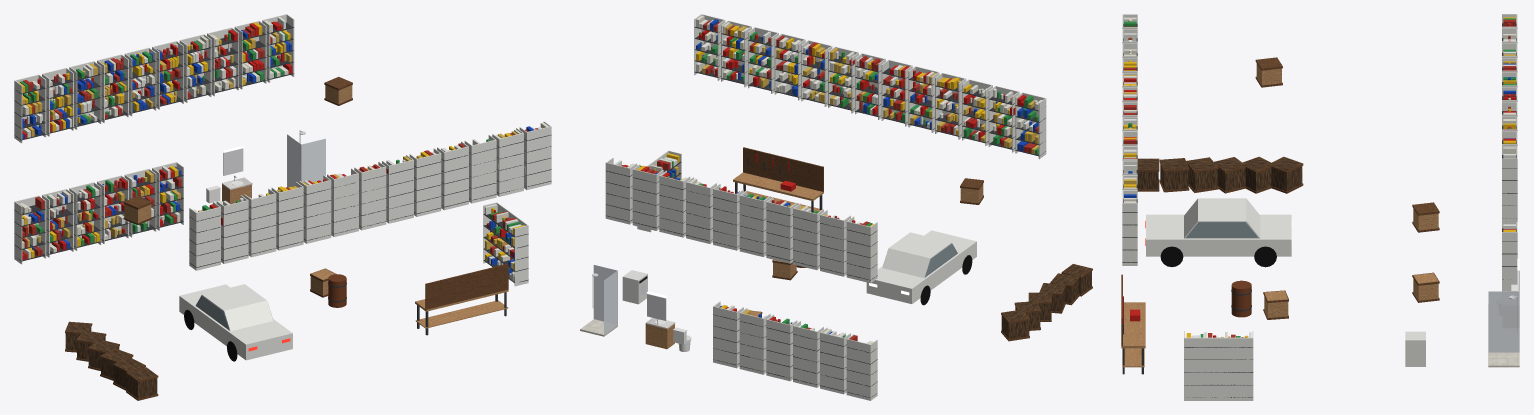
The model's file is i_red_barn.gltf.
The picture shows the model from 3 angles, left to right: view 1: azimuth 30°, elevation 25°; view 2: azimuth 150°, elevation 25°; view 3: azimuth 270°, elevation 25°; orthographic projection. The views are drawn at different scales.
Visible parts, largest first — view 1: I_red_barn; view 2: I_red_barn; view 3: I_red_barn.
Boxes of the visible parts, box(x1,y1,x2,y2) form: I_red_barn: box(14, 14, 551, 400); I_red_barn: box(580, 14, 1092, 400); I_red_barn: box(1121, 14, 1519, 400).
Size of the model in its own units: 15.18 by 6.2 by 11.49.
Materials: 23 (6 with a texture image).
